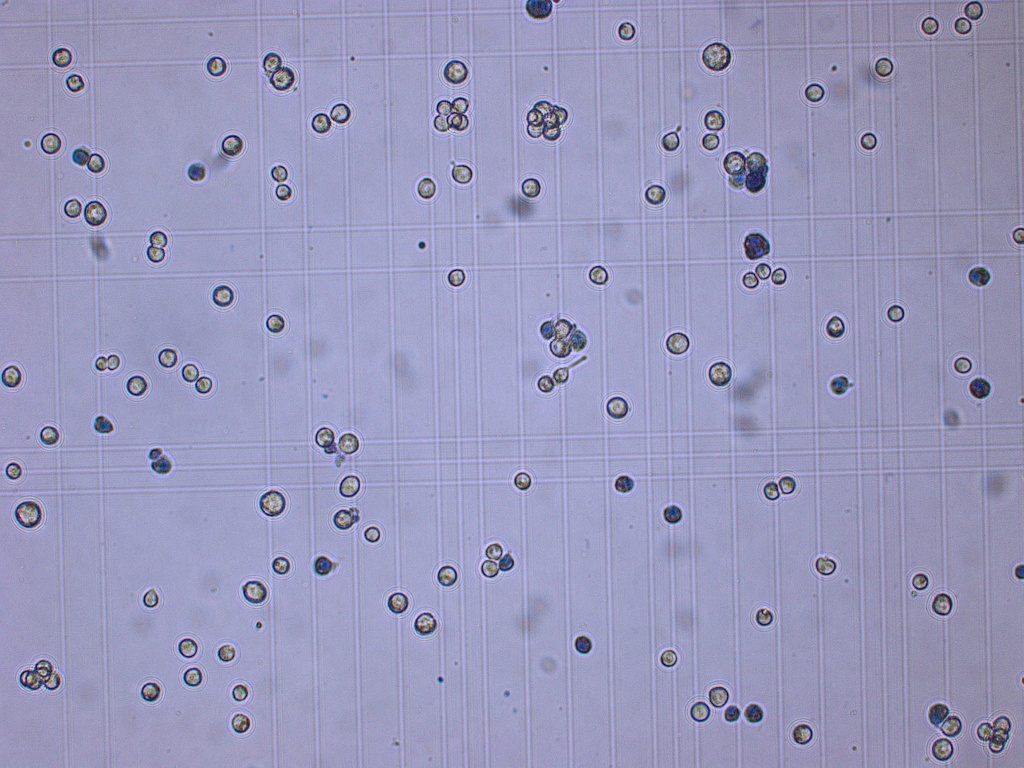Aggregate: (526, 99, 568, 141), (18, 657, 63, 693)
dead: (743, 232, 770, 258), (526, 1, 552, 18), (969, 377, 990, 398), (969, 265, 990, 286), (747, 171, 765, 193), (929, 703, 946, 725), (95, 414, 113, 434), (614, 474, 633, 492), (744, 704, 762, 722), (831, 375, 849, 393), (576, 634, 592, 654), (664, 504, 681, 522), (150, 458, 170, 473), (314, 556, 330, 574), (188, 163, 204, 180), (72, 148, 89, 164), (725, 705, 738, 722), (500, 554, 513, 569), (541, 321, 551, 339), (1016, 562, 1024, 581)
live: (703, 43, 731, 71), (16, 500, 41, 527), (260, 491, 287, 515), (244, 579, 267, 604), (270, 67, 295, 90), (444, 60, 467, 83), (606, 396, 629, 419), (709, 362, 731, 385), (666, 331, 688, 354), (414, 612, 437, 634), (39, 132, 60, 156), (85, 201, 105, 226), (932, 593, 953, 616), (932, 738, 954, 759), (826, 315, 845, 339), (704, 109, 724, 130), (708, 686, 728, 707), (223, 135, 244, 155), (418, 177, 437, 199), (452, 165, 473, 184), (804, 83, 825, 102), (690, 701, 709, 722), (792, 724, 813, 743), (340, 476, 359, 497), (214, 285, 233, 306), (522, 178, 542, 197), (646, 184, 665, 204), (588, 264, 608, 283), (338, 433, 358, 452), (315, 426, 334, 446), (40, 426, 59, 446), (617, 21, 636, 40), (388, 593, 407, 612), (141, 681, 160, 700), (875, 57, 893, 77), (438, 566, 456, 586), (266, 313, 284, 333), (64, 73, 84, 91), (261, 53, 281, 71), (311, 112, 329, 132), (332, 103, 350, 123), (815, 557, 836, 574), (3, 364, 19, 386), (158, 348, 176, 367), (943, 715, 960, 735), (662, 130, 678, 151), (448, 268, 466, 286), (333, 510, 351, 528), (922, 15, 939, 34), (271, 556, 290, 573), (127, 376, 146, 393), (143, 588, 160, 607), (178, 638, 195, 657), (514, 471, 531, 489), (756, 609, 773, 627), (231, 714, 249, 731), (887, 304, 903, 323), (976, 723, 992, 742), (484, 543, 503, 559), (65, 198, 80, 218), (954, 16, 971, 33), (965, 2, 982, 19), (779, 476, 796, 493), (184, 668, 201, 685), (53, 47, 70, 64), (207, 57, 224, 74), (703, 132, 719, 150), (145, 247, 164, 262), (90, 152, 104, 172), (743, 272, 759, 289), (754, 263, 770, 280), (955, 357, 972, 373), (196, 377, 213, 393), (537, 374, 553, 391), (481, 560, 497, 577), (217, 646, 234, 662), (862, 132, 877, 150), (764, 481, 779, 499), (912, 572, 927, 590), (661, 649, 676, 667), (183, 363, 197, 381), (271, 166, 286, 182), (276, 184, 292, 199), (451, 96, 467, 111), (7, 462, 21, 479), (150, 231, 168, 244), (365, 526, 380, 541), (436, 98, 450, 114), (434, 112, 448, 128), (232, 685, 247, 699), (1012, 225, 1023, 244), (773, 269, 786, 285), (555, 367, 568, 383), (107, 355, 119, 368), (95, 356, 106, 370)
